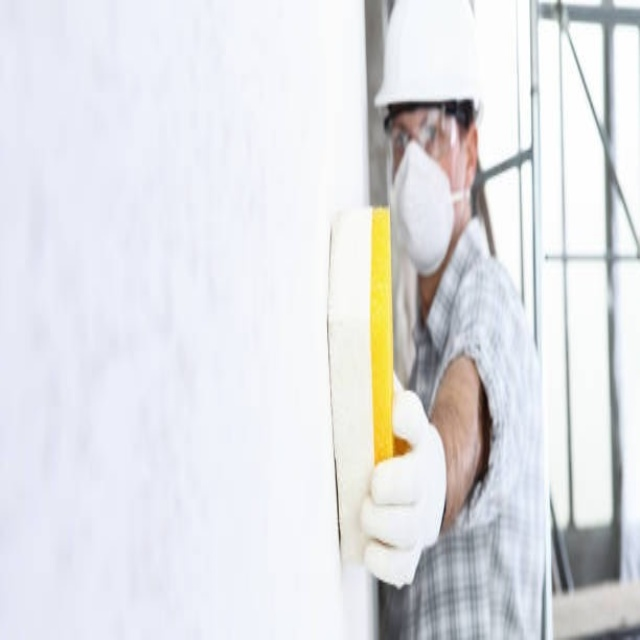Gafas: (387, 109, 472, 172)
Guantes: (362, 369, 449, 588)
Mascara: (391, 137, 459, 277)
